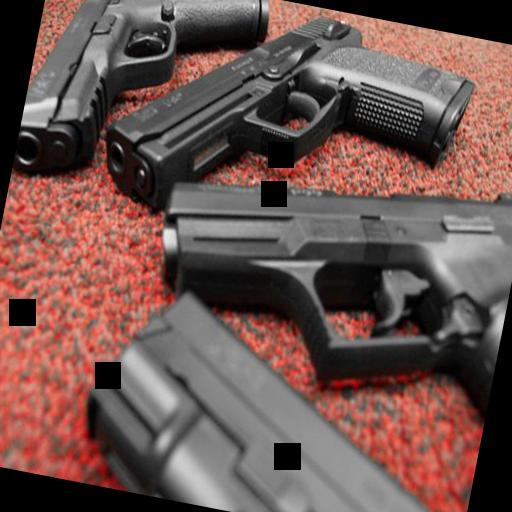Handgun: (130, 120, 512, 435), (87, 0, 482, 266), (68, 270, 498, 512), (12, 0, 272, 214)
